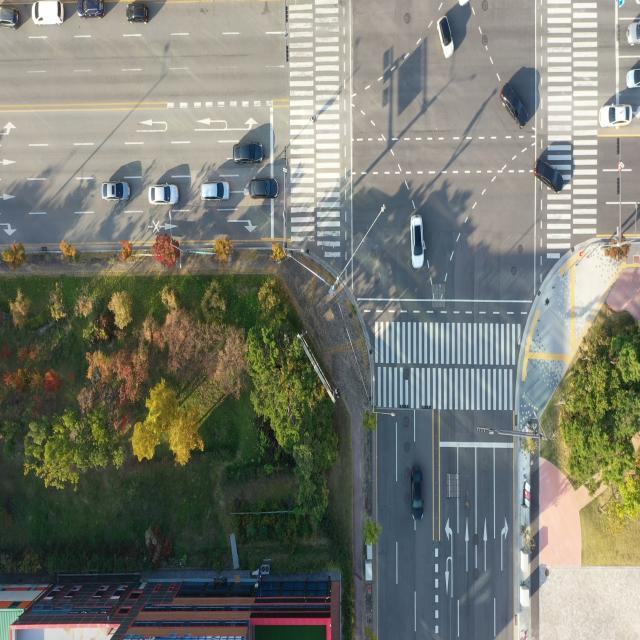car: (501, 84, 529, 124), (531, 159, 564, 192), (30, 0, 65, 28), (410, 214, 426, 271), (599, 104, 631, 131), (234, 142, 264, 166), (438, 11, 453, 57), (411, 467, 424, 518), (76, 0, 106, 21), (150, 184, 178, 206), (252, 179, 280, 200), (202, 180, 230, 201), (0, 4, 21, 30), (104, 182, 128, 202), (128, 3, 149, 25), (625, 23, 640, 45), (625, 67, 640, 87)
